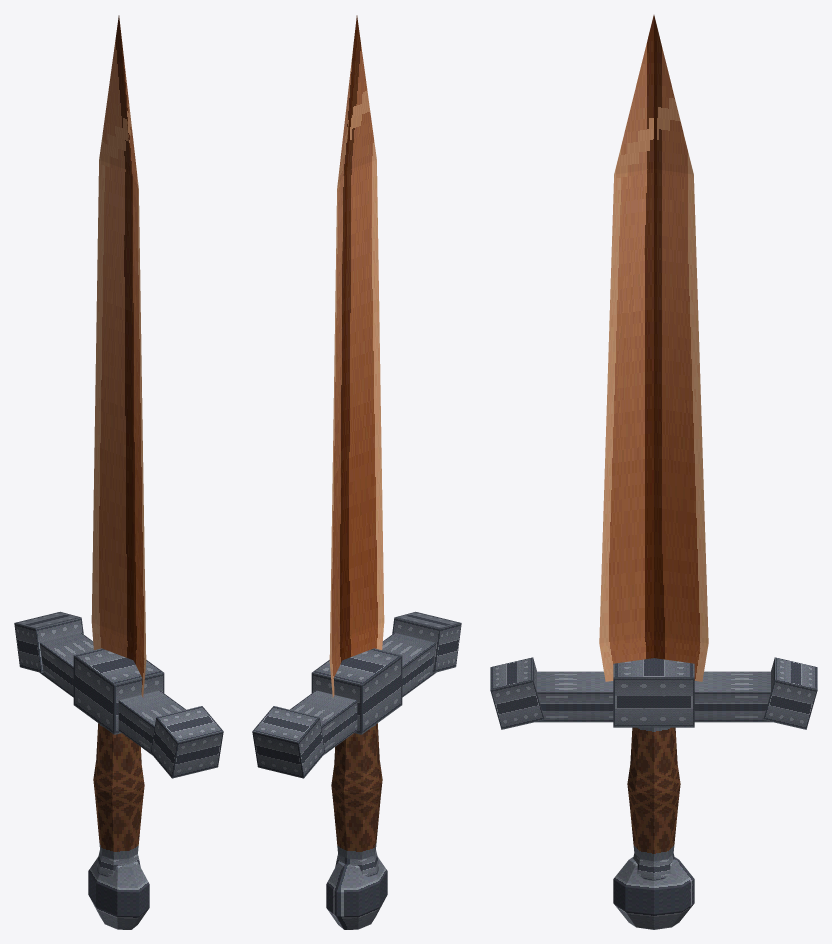
The model's file is espada_de_cobre.glb.
The picture shows the model from 3 angles, left to right: view 1: azimuth 30°, elevation 25°; view 2: azimuth 150°, elevation 25°; view 3: azimuth 270°, elevation 25°; orthographic projection.
Visible parts, largest first — view 1: espada_de_cobre; view 2: espada_de_cobre; view 3: espada_de_cobre.
Boxes of the visible parts, <box> form: espada_de_cobre: <box>14,15,223,929</box>; espada_de_cobre: <box>252,15,461,929</box>; espada_de_cobre: <box>490,15,817,929</box>.
Size of the model in its own units: 0.078 by 1.37 by 0.4435.
1 material, 1 textured.
